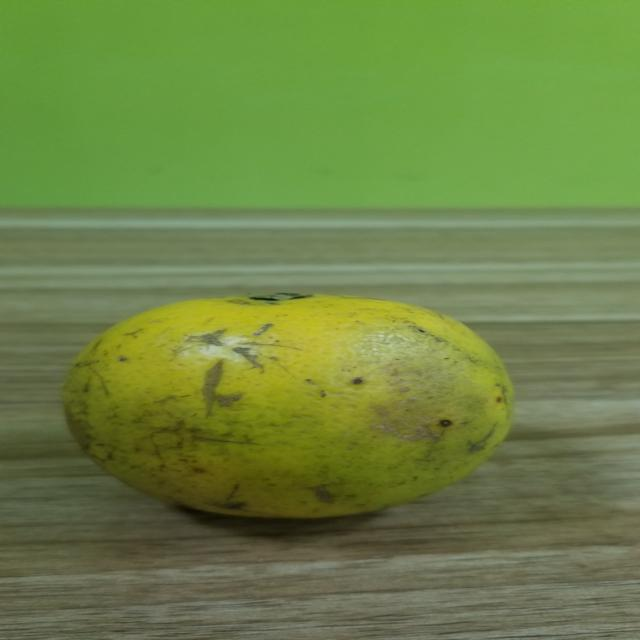Ripe orange: (56, 282, 519, 516)
